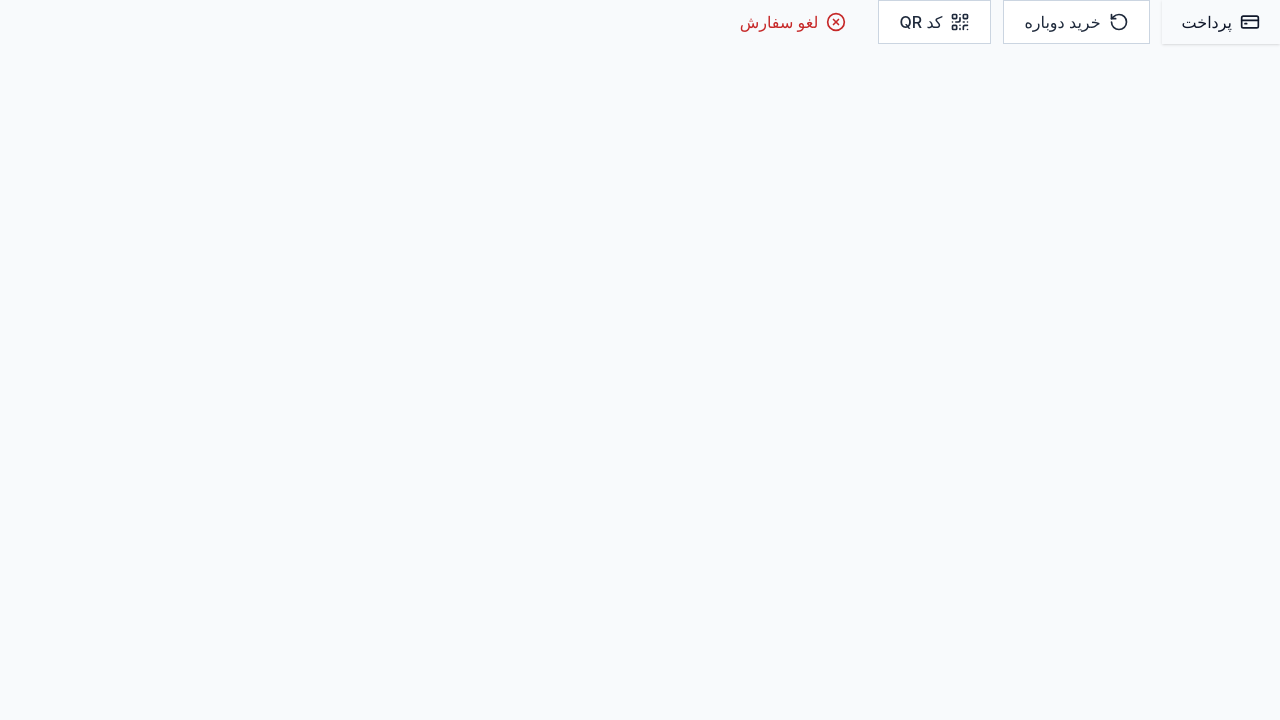
after a cancellation › «بازگشت» (nothing done): the focus goes back to «لغو سفارش»
The image size is (1280, 720).
Click the button "لغو سفارش": (793, 22) [720,0,866,44]
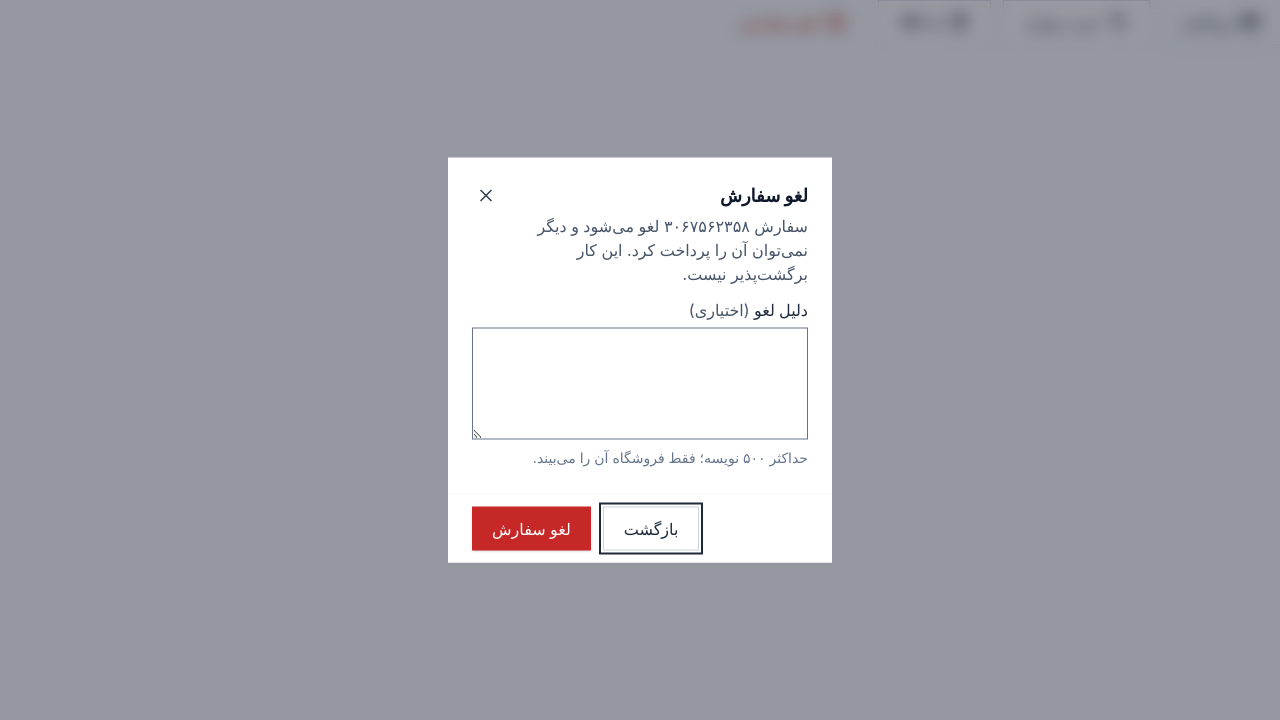
Click the button "بازگشت": (651, 528) [603,506,700,550]
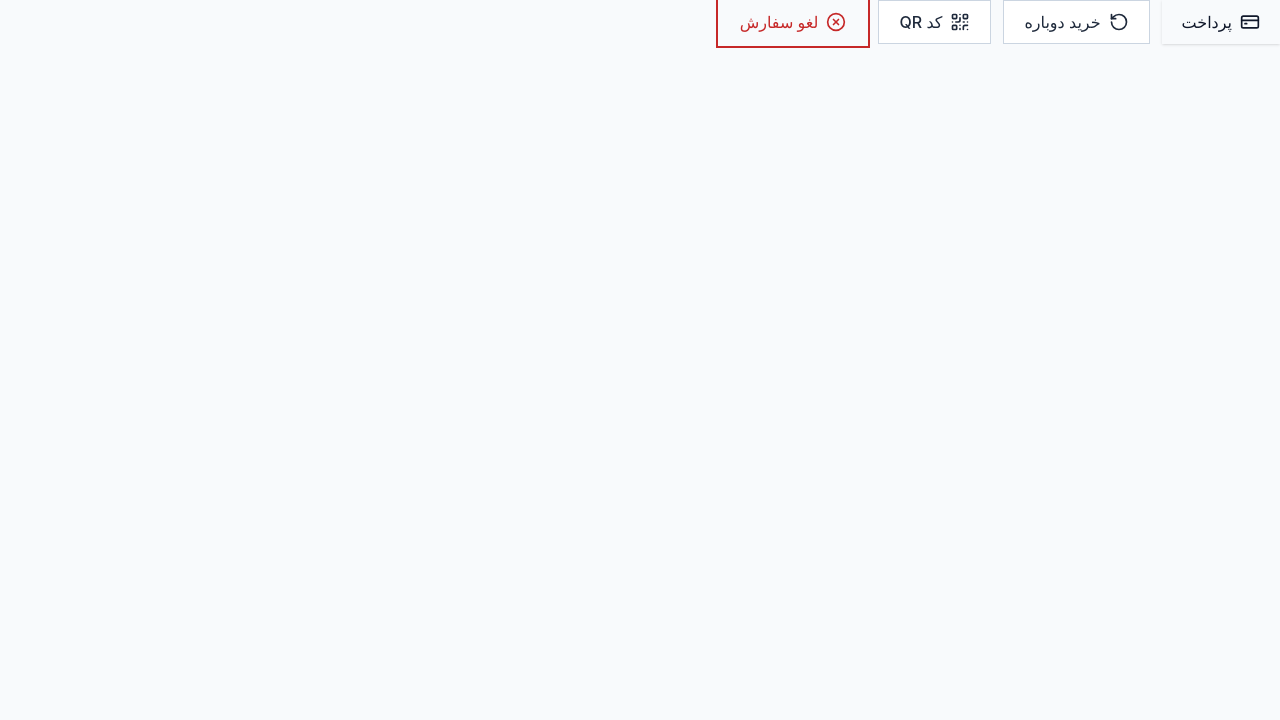
Now the dialog is gone
